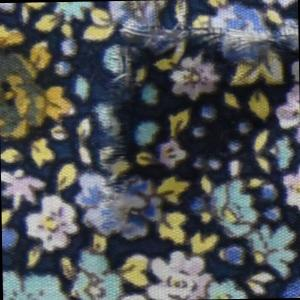Damage: (97, 18, 300, 291)
Oil Stain: (1, 27, 77, 155)
